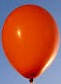Balloon: (1, 4, 59, 79)
